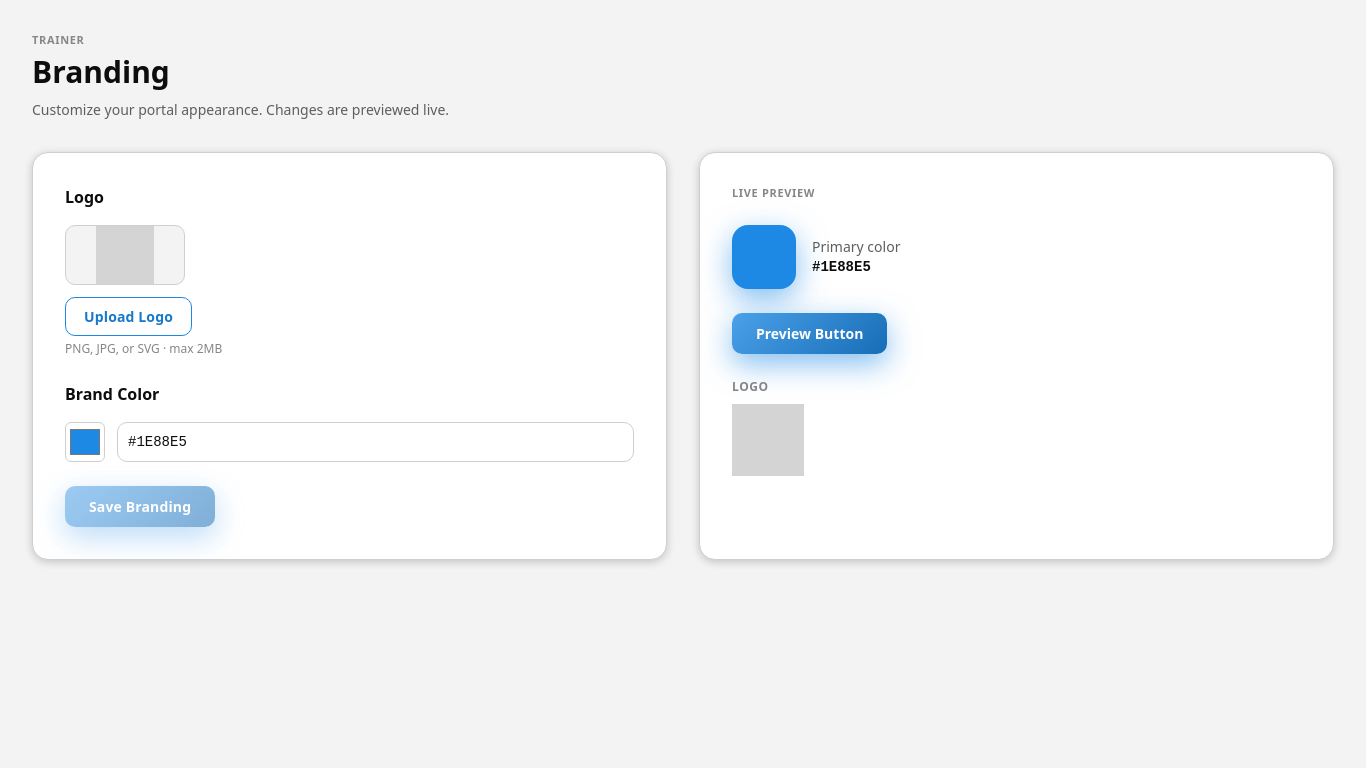
Test: TrainerBranding › shows success message after save
The width and height of the screenshot is (1366, 768).
Replace the text in the field named "brand color hex value" with "#00AA00" at (376, 442), box x1=117 y1=422 x2=634 y2=462
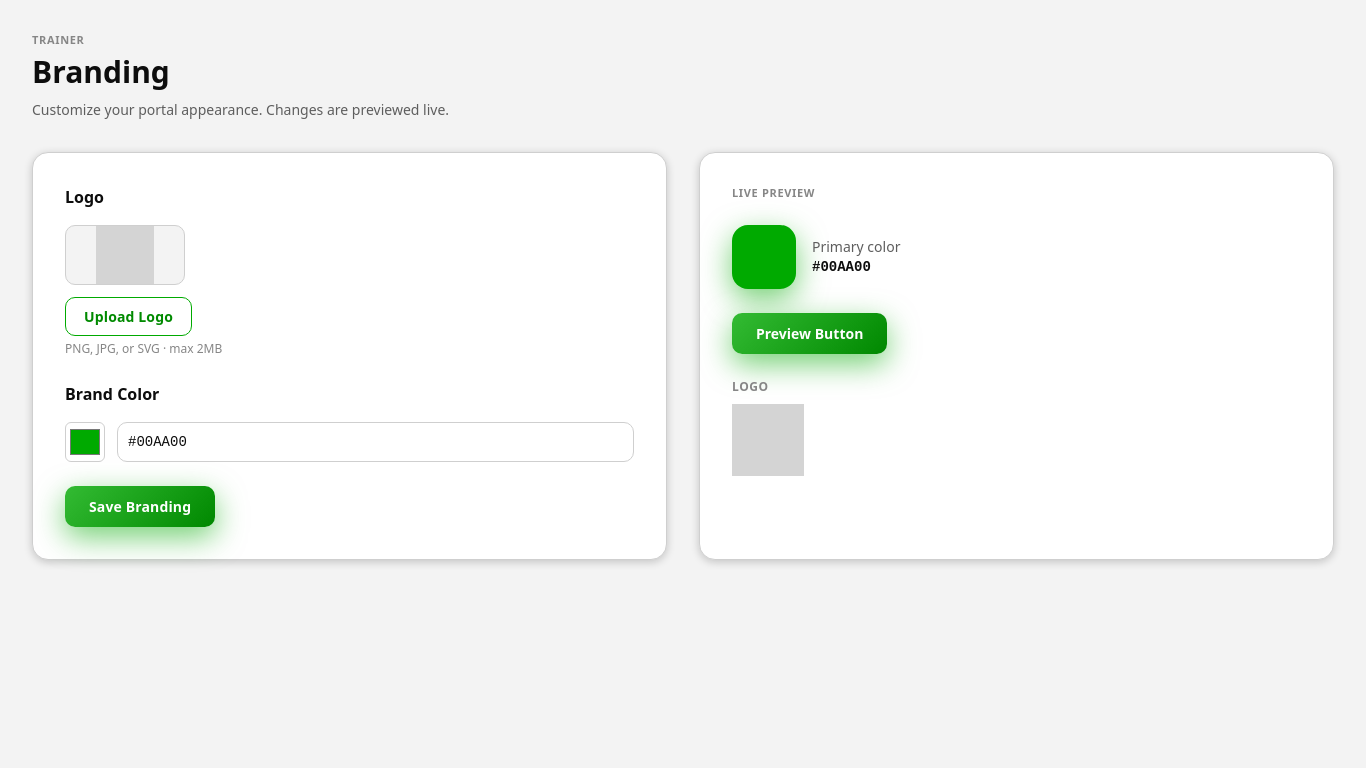
Click the button "Save Branding".
click(140, 506)  # box x1=65 y1=486 x2=215 y2=526
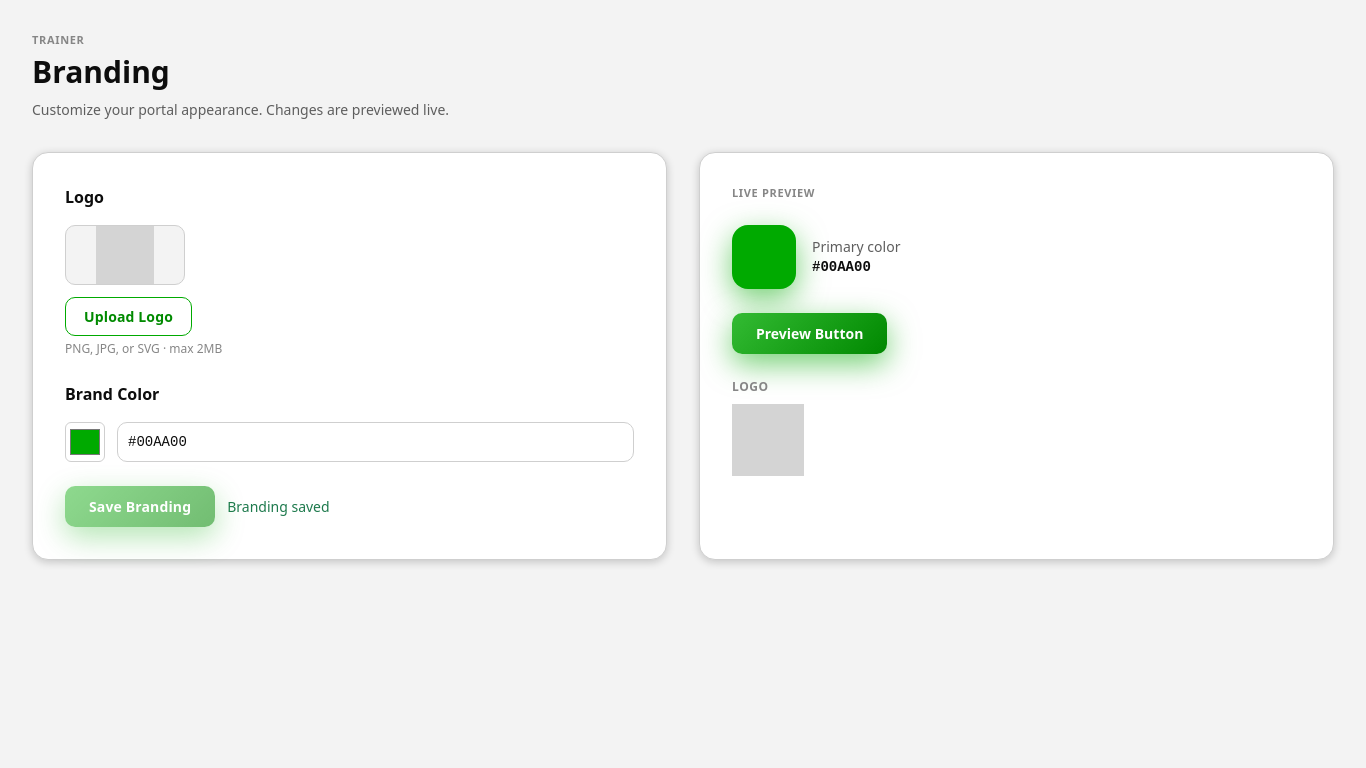
Check: the message reads "Branding saved", box x1=227 y1=496 x2=330 y2=516
